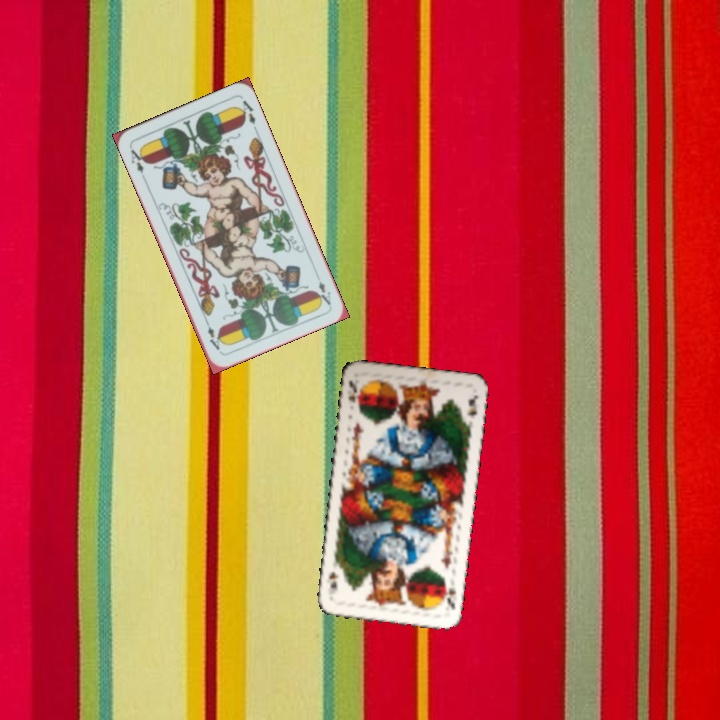EA: (126, 143, 149, 176), (313, 277, 334, 308)
SK: (439, 575, 458, 613), (344, 376, 363, 411)
